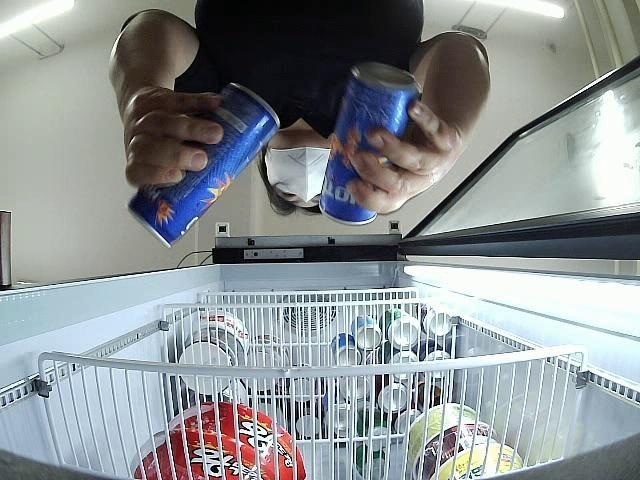16_hot6: (131, 81, 281, 248), (317, 62, 419, 226)
